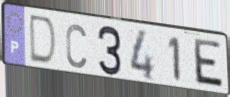1: (167, 37, 183, 84)
3: (95, 23, 124, 78)
4: (128, 28, 157, 83)
C: (64, 22, 88, 70)
D: (28, 13, 59, 69)
E: (193, 37, 226, 92)
